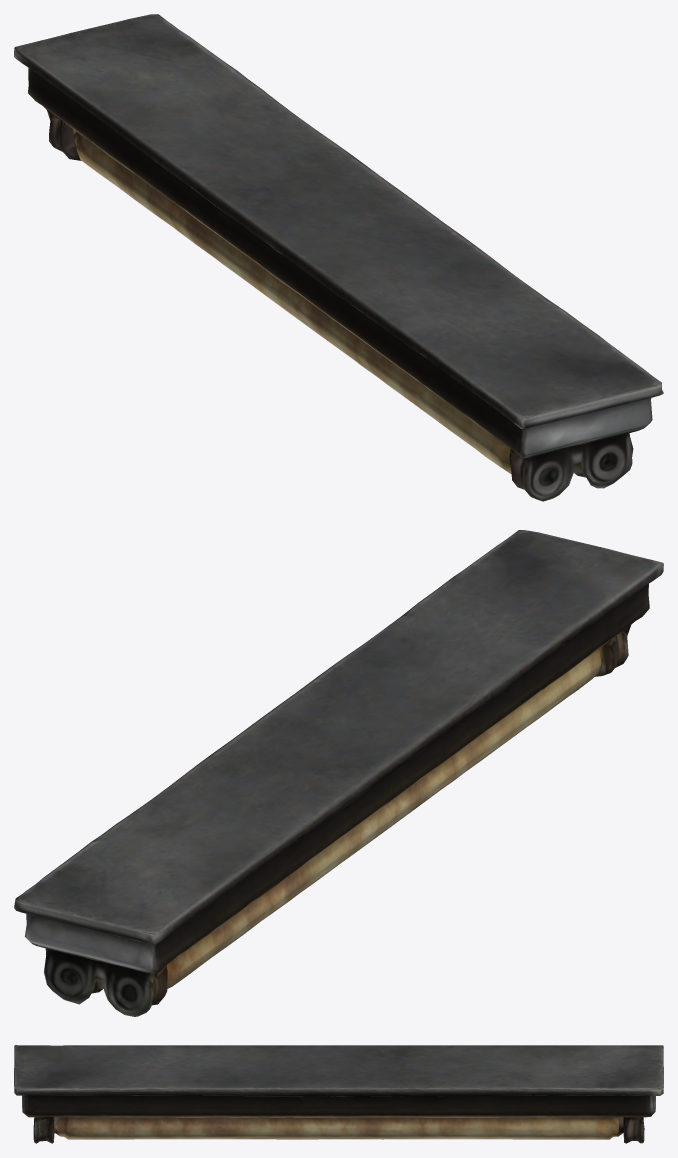
The model's file is weathered light.fbx.
3 renders of one model, top to bottom at view 1: azimuth 30°, elevation 25°; view 2: azimuth 150°, elevation 25°; view 3: azimuth 270°, elevation 25°, orthographic. The views are drawn at different scales.
Visible parts, largest first — view 1: Mesh1_Mesh1.036; view 2: Mesh1_Mesh1.036; view 3: Mesh1_Mesh1.036.
Boxes of the visible parts, bbox=[...] form: Mesh1_Mesh1.036: bbox=[14, 14, 663, 501]; Mesh1_Mesh1.036: bbox=[14, 530, 663, 1016]; Mesh1_Mesh1.036: bbox=[14, 1045, 663, 1143].
Bounding box in the file's own units: 32.99 × 22.73 × 200.
Materials: 1 (1 with a texture image).
